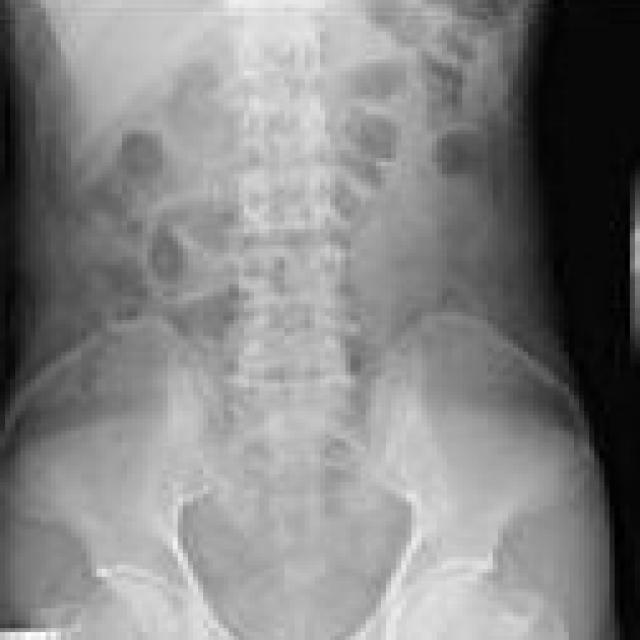Hairline: (2, 355, 76, 471)
